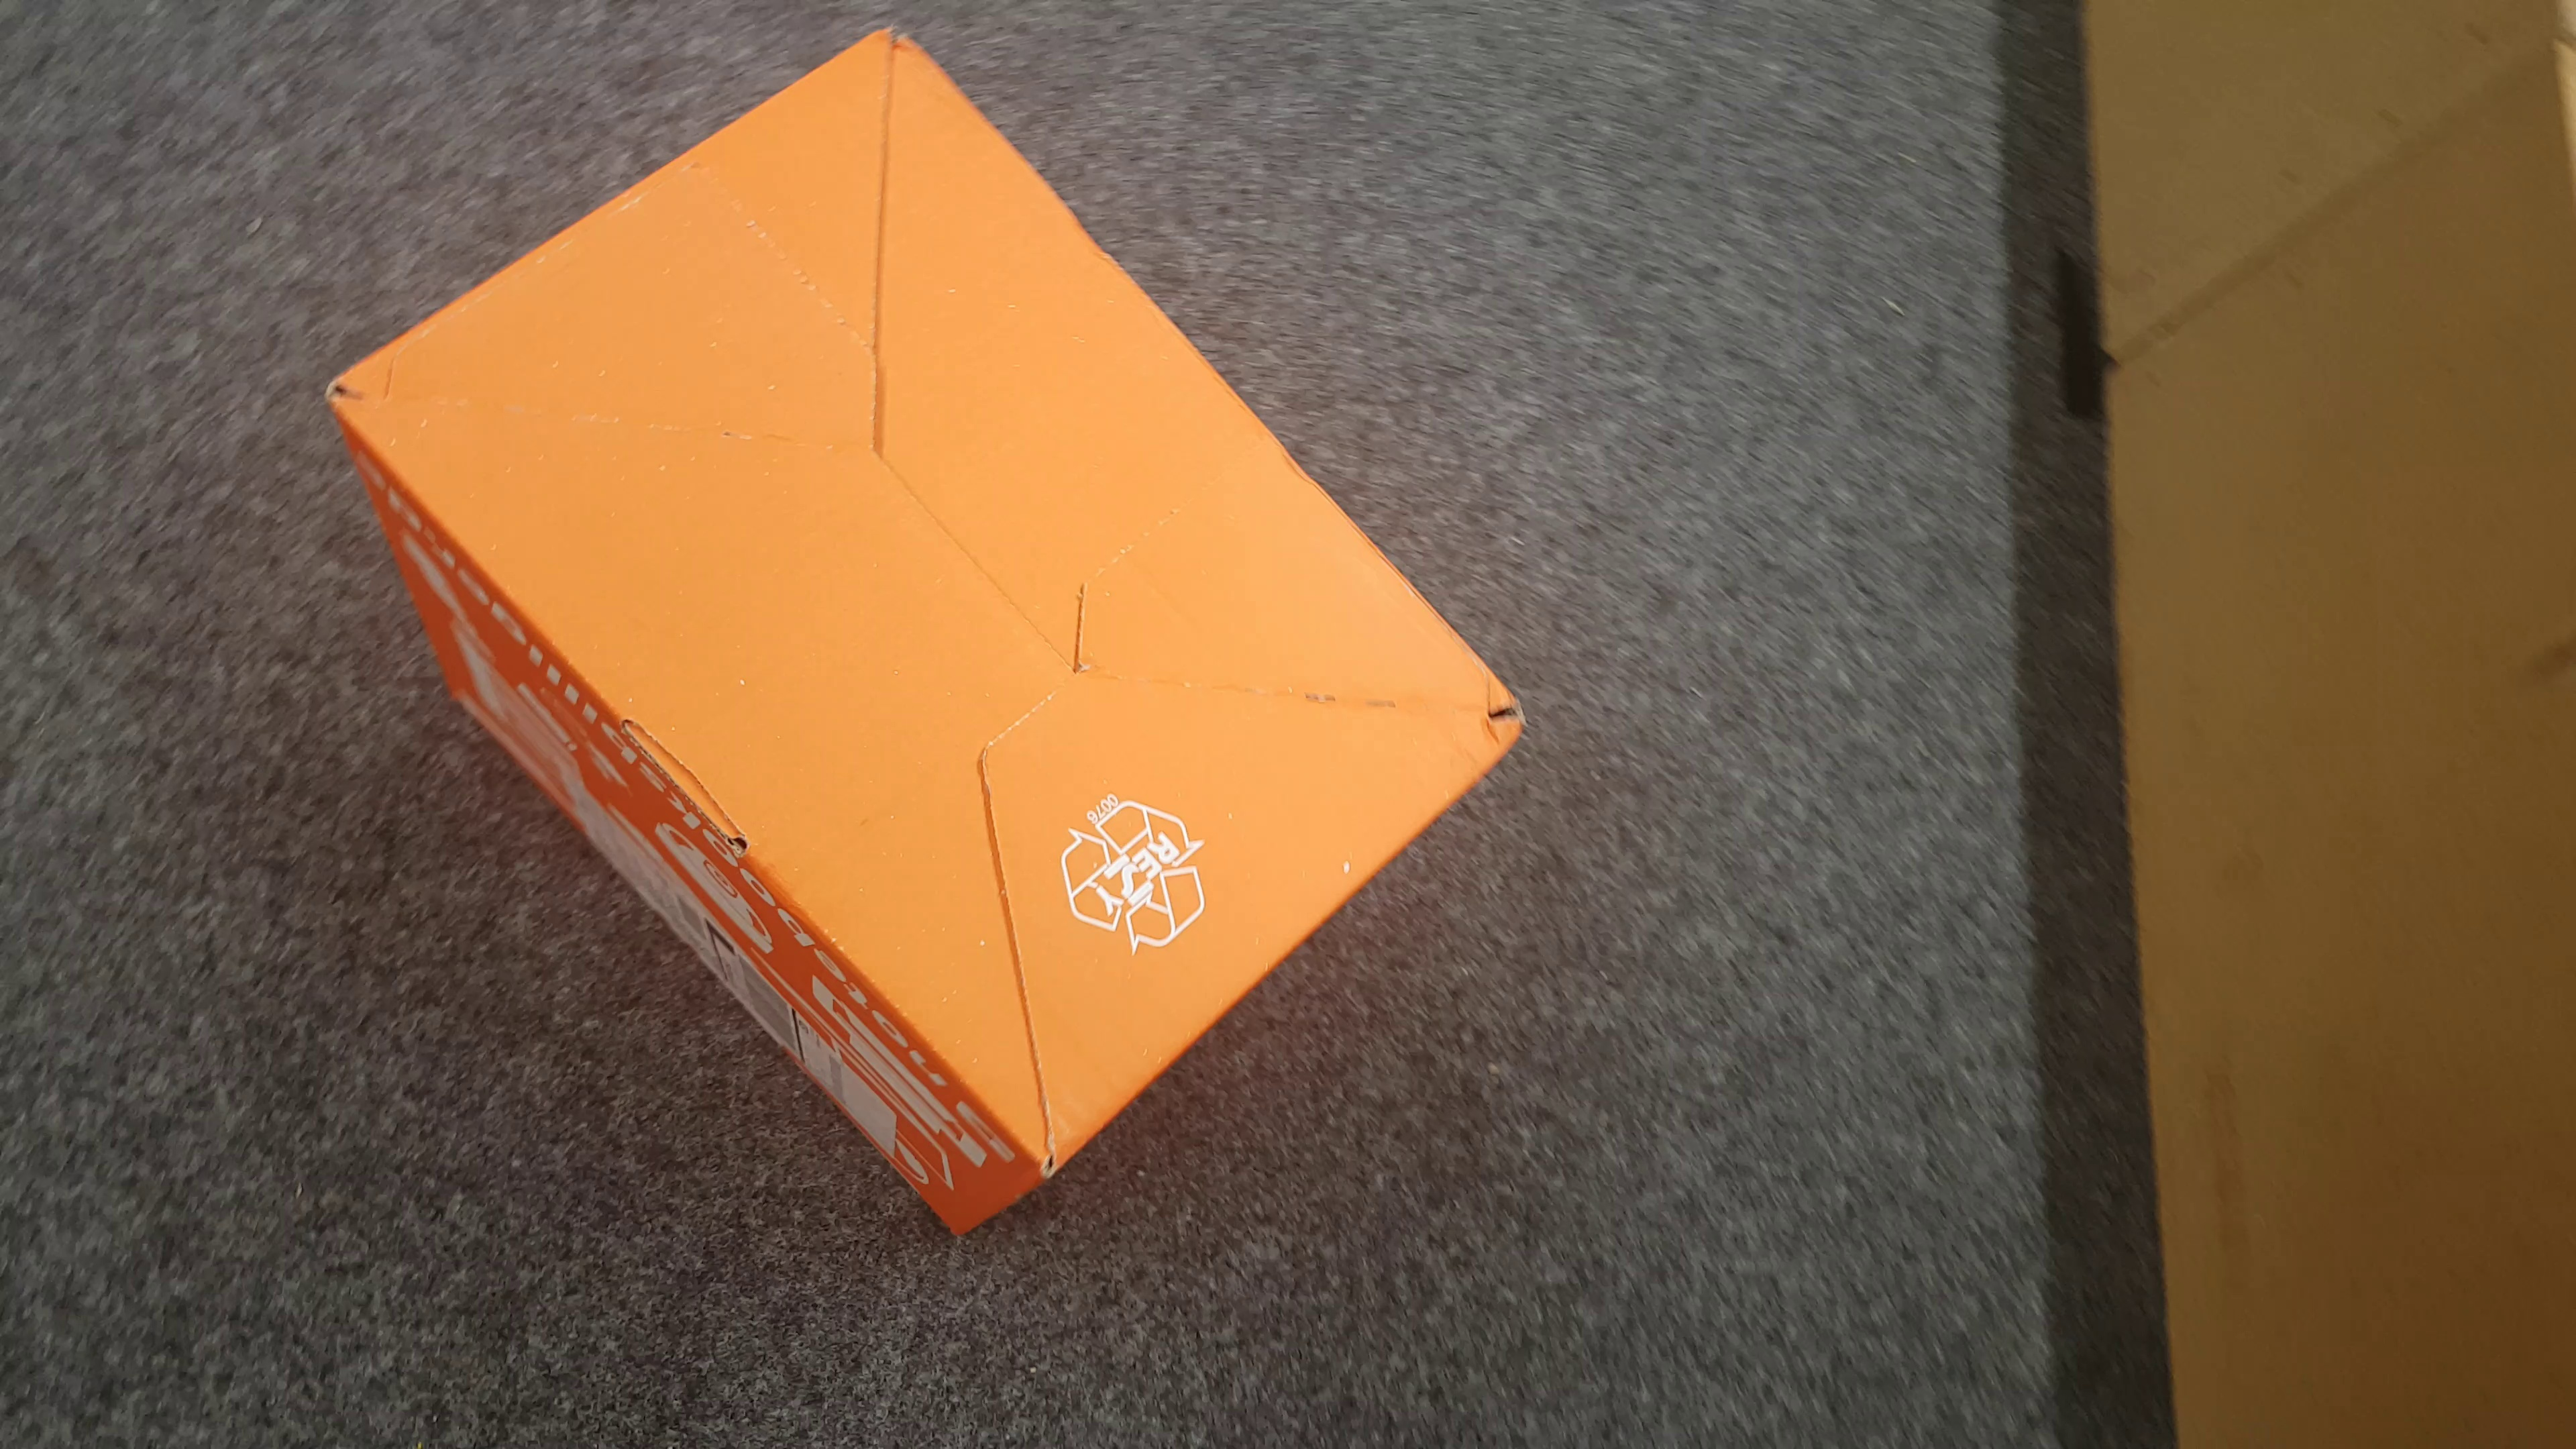push: (327, 25, 1522, 1233)
